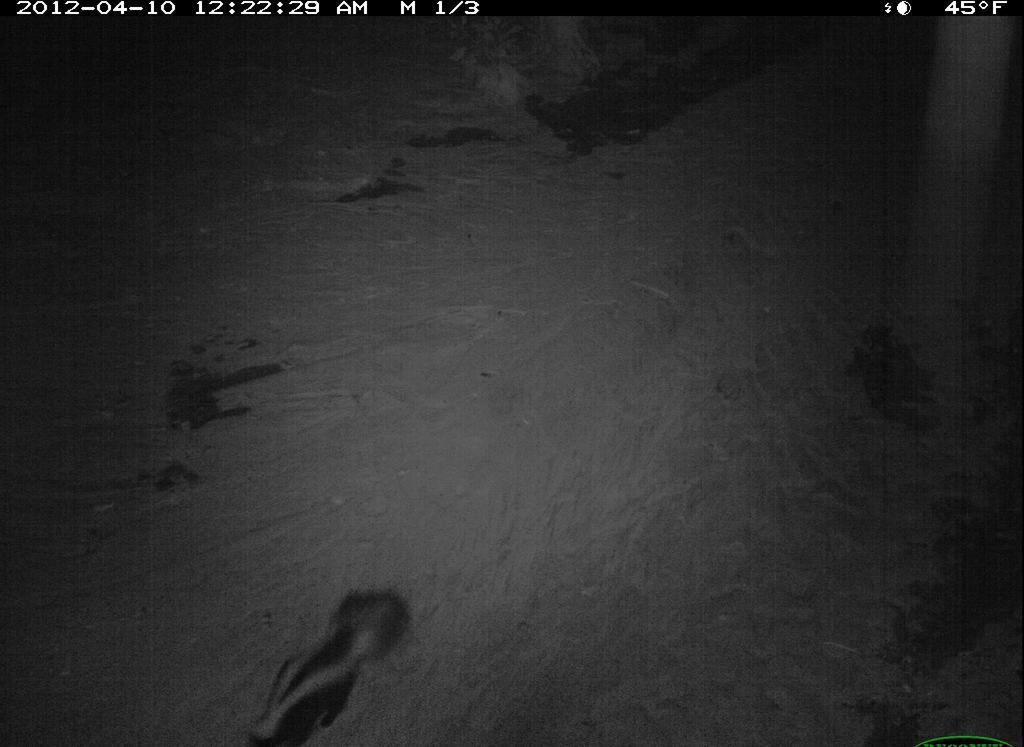skunk: (242, 583, 418, 740)
